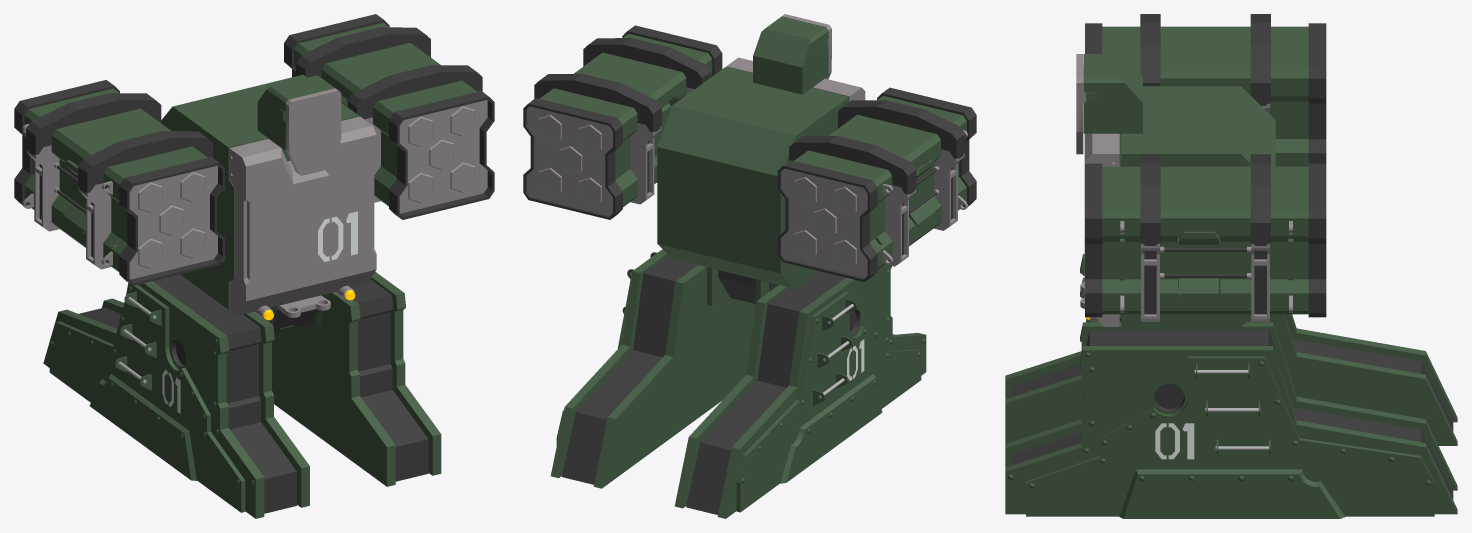
Rendered from launcher.glb.
The picture shows the model from 3 angles, left to right: view 1: azimuth 30°, elevation 25°; view 2: azimuth 150°, elevation 25°; view 3: azimuth 270°, elevation 25°; orthographic projection. The views are drawn at different scales.
Parts seen in each view (by area): view 1: polySurface21_GreySteelRough_0; view 2: polySurface21_GreySteelRough_0; view 3: polySurface21_GreySteelRough_0.
Part boxes in pixels (bbox=[...]): polySurface21_GreySteelRough_0: bbox=[14, 14, 494, 518]; polySurface21_GreySteelRough_0: bbox=[523, 14, 976, 518]; polySurface21_GreySteelRough_0: bbox=[1005, 14, 1457, 518].
Size of the model in its own units: 68.01 by 61.69 by 63.27.
2 materials, 2 textured.
